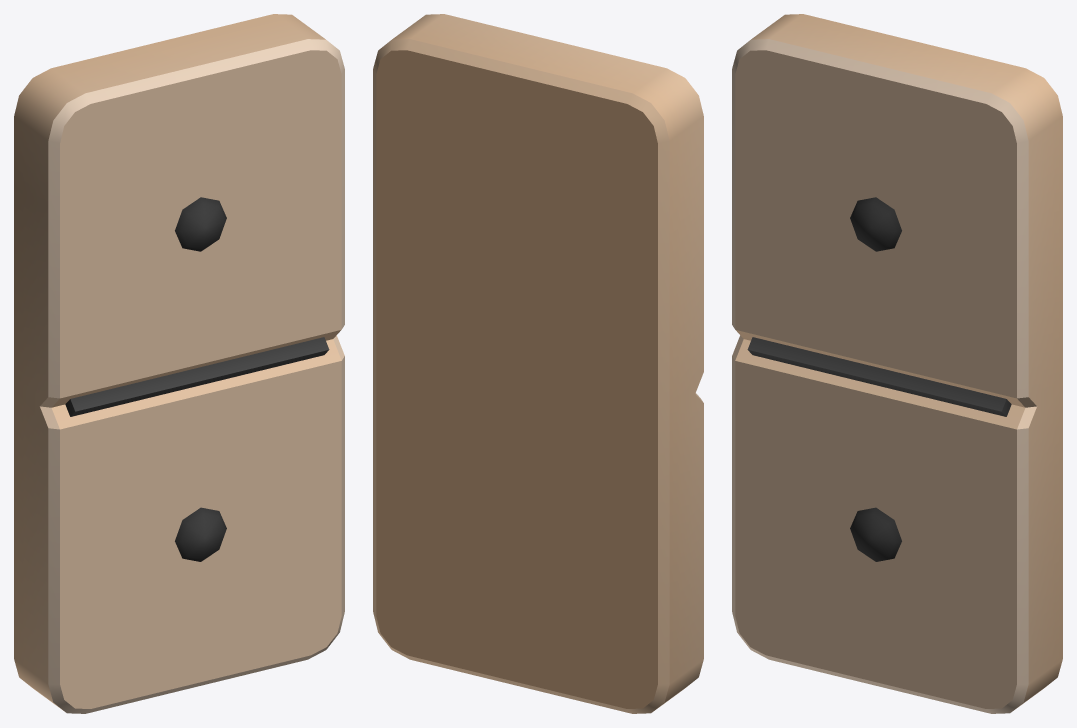
File: KFB_Domino_1-1.r1.glb
3 renders of one model, left to right at view 1: azimuth 30°, elevation 25°; view 2: azimuth 150°, elevation 25°; view 3: azimuth 330°, elevation 25°, orthographic.
Parts seen in each view (by area): view 1: KFB_Domino_1-1; view 2: KFB_Domino_1-1; view 3: KFB_Domino_1-1.
Boxes of the visible parts, x1,y1,x2,y2 form: KFB_Domino_1-1: (14, 14, 344, 713); KFB_Domino_1-1: (373, 14, 703, 713); KFB_Domino_1-1: (732, 14, 1062, 713).
Bounding box in the file's own units: 2.44 × 4.87 × 0.6739.
Materials: 1 (1 with a texture image).
